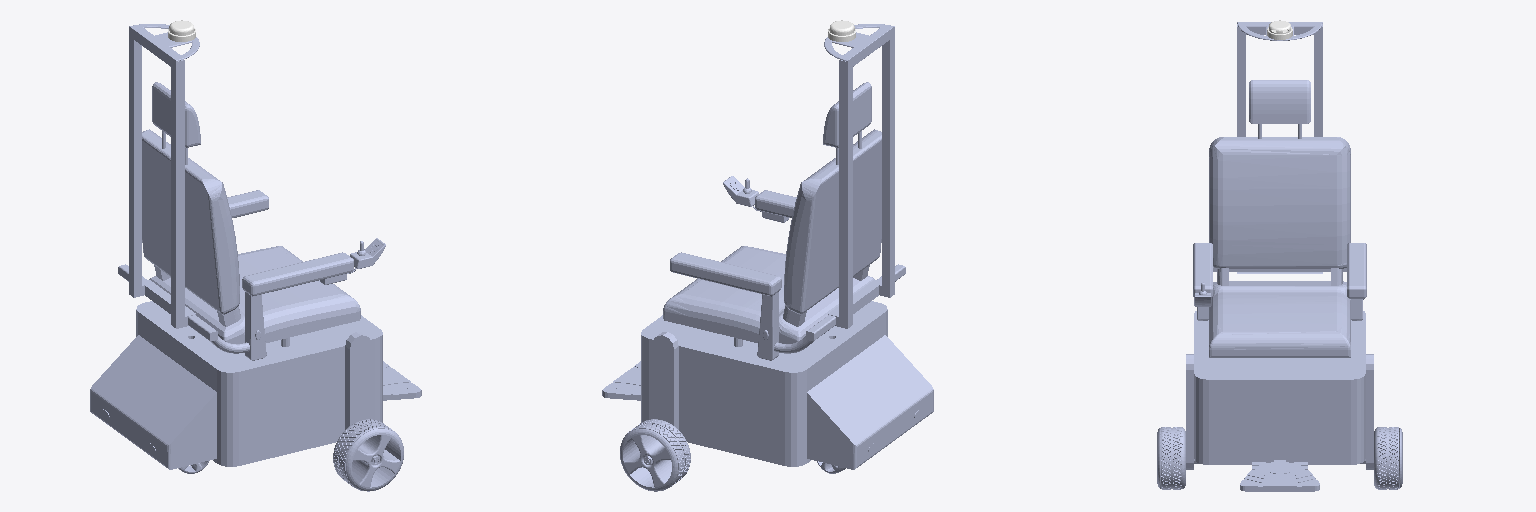
robot.urdf — wheelchair_robot4:
<?xml version="1.0" encoding="utf-8"?>
<!-- This URDF was automatically created by SolidWorks to URDF Exporter! Originally created by [author] ([email redacted]) 
     Commit Version: 1.6.0-1-g15f4949  Build Version: 1.6.7594.29634
     For more information, please see http://wiki.ros.org/sw_urdf_exporter -->
<robot
  name="wheelchair_robot4">


  <material name="color1">
      <color rgba="0.996078431372549 0.7764705882352941 0.08235294117647059 1.0" />
  </material>

  <material name="color2">
      <color rgba="0.9803921568627451 0.16470588235294117 0.3333333333333333 1.0" />
  </material>

  <material name="color3">
      <color rgba="0.10588235294117647 0.1411764705882353 0.19215686274509805 1.0" />
  </material>


  <link
    name="base_link">
    <inertial>
      <origin
        xyz="-0.116070367389248 -0.000387460963306548 0.280524449845589"
        rpy="0 0 0" />
      <mass
        value="185.015068554867" />
      <inertia
        ixx="8.51989303392125"
        ixy="0.0245373071358486"
        ixz="0.693279134331001"
        iyy="10.1532644889236"
        iyz="8.82279589272413E-05"
        izz="11.9909793927951" />
    </inertial>
    <visual>
      <origin
        xyz="0 0 0"
        rpy="0 0 0" />
      <geometry>
        <mesh
          filename="package://wheelchair_robot4/meshes/base_link.STL" />
      </geometry>
      <material
        name="color1">
        <color
          rgba="0.792156862745098 0.819607843137255 0.933333333333333 1" />
      </material>
    </visual>
    <collision>
      <origin
        xyz="0 0 0"
        rpy="0 0 0" />
      <geometry>
        <mesh
          filename="package://wheelchair_robot4/meshes/base_link.STL" />
      </geometry>
    </collision>
  </link>
  <link
    name="wheel_fl_link">
    <inertial>
      <origin
        xyz="-1.10061709746034E-10 -0.00337662340413741 5.90574734948834E-10"
        rpy="0 0 0" />
      <mass
        value="2.2843668748185" />
      <inertia
        ixx="0.00965638406952181"
        ixy="-5.03513589196726E-13"
        ixz="-4.98427158296694E-09"
        iyy="0.0146542138938539"
        iyz="-1.93237868171639E-11"
        izz="0.00965636514719424" />
    </inertial>
    <visual>
      <origin
        xyz="0 0 0"
        rpy="0 0 0" />
      <geometry>
        <mesh
          filename="package://wheelchair_robot4/meshes/wheel_fl_link.STL" />
      </geometry>
      <material
        name="color3">
        <color
          rgba="0.792156862745098 0.819607843137255 0.933333333333333 1" />
      </material>
    </visual>
    <collision>
      <origin
        xyz="0 0 0"
        rpy="0 0 0" />
      <geometry>
        <mesh
          filename="package://wheelchair_robot4/meshes/wheel_fl_link.STL" />
      </geometry>
    </collision>
  </link>
  <joint
    name="wheel_fl_joint"
    type="continuous">
    <origin
      xyz="0.130073236181598 0.38 -0.03"
      rpy="0 0 0" />
    <parent
      link="base_link" />
    <child
      link="wheel_fl_link" />
    <axis
      xyz="0 -1 0" />
  </joint>
  <link
    name="wheel_fr_link">
    <inertial>
      <origin
        xyz="3.98364174980514E-10 0.00337662340409128 -4.3375466413087E-10"
        rpy="0 0 0" />
      <mass
        value="2.28436687482522" />
      <inertia
        ixx="0.00965637368510289"
        ixy="1.45442365575457E-11"
        ixz="1.06538252153203E-08"
        iyy="0.0146542138938664"
        iyz="-1.23759944913488E-11"
        izz="0.00965637553164089" />
    </inertial>
    <visual>
      <origin
        xyz="0 0 0"
        rpy="0 0 0" />
      <geometry>
        <mesh
          filename="package://wheelchair_robot4/meshes/wheel_fr_link.STL" />
      </geometry>
      <material
        name="color3">
        <color
          rgba="0.792156862745098 0.819607843137255 0.933333333333333 1" />
      </material>
    </visual>
    <collision>
      <origin
        xyz="0 0 0"
        rpy="0 0 0" />
      <geometry>
        <mesh
          filename="package://wheelchair_robot4/meshes/wheel_fr_link.STL" />
      </geometry>
    </collision>
  </link>
  <joint
    name="wheel_fr_joint"
    type="continuous">
    <origin
      xyz="0.130073236181598 -0.38 -0.03"
      rpy="0 0 0" />
    <parent
      link="base_link" />
    <child
      link="wheel_fr_link" />
    <axis
      xyz="0 1 0" />
  </joint>
  <link
    name="connector_link">
    <inertial>
      <origin
        xyz="3.79357822932747E-10 2.90199943435004E-10 -0.0261782154699899"
        rpy="0 0 0" />
      <mass
        value="0.0667157840715326" />
      <inertia
        ixx="0.000125873890125083"
        ixy="-7.2427836650951E-06"
        ixz="1.21292858455585E-12"
        iyy="9.30667213425711E-05"
        iyz="9.31015843073259E-13"
        izz="5.60950990322276E-05" />
    </inertial>
    <visual>
      <origin
        xyz="0 0 0"
        rpy="0 0 0" />
      <geometry>
        <mesh
          filename="package://wheelchair_robot4/meshes/connector_link.STL" />
      </geometry>
      <material
        name="">
        <color
          rgba="0.792156862745098 0.819607843137255 0.933333333333333 1" />
      </material>
    </visual>
    <collision>
      <origin
        xyz="0 0 0"
        rpy="0 0 0" />
      <geometry>
        <mesh
          filename="package://wheelchair_robot4/meshes/connector_link.STL" />
      </geometry>
    </collision>
  </link>
  <joint
    name="connector_joint"
    type="continuous">
    <origin
      xyz="-0.299926763818402 0 -0.00399999999999999"
      rpy="0 0 0" />
    <parent
      link="base_link" />
    <child
      link="connector_link" />
    <axis
      xyz="0 0 1" />
  </joint>
  <link
    name="wheel_assist_link">
    <inertial>
      <origin
        xyz="1.26123131077849E-07 4.99185305185699E-07 2.01808293964767E-08"
        rpy="0 0 0" />
      <mass
        value="0.33441726853021" />
      <inertia
        ixx="0.000399871451682161"
        ixy="5.27453105588021E-05"
        ixz="-4.40619053011618E-10"
        iyy="0.000638788721281427"
        iyz="7.73083711774996E-11"
        izz="0.000388744319718542" />
    </inertial>
    <visual>
      <origin
        xyz="0 0 0"
        rpy="0 0 0" />
      <geometry>
        <mesh
          filename="package://wheelchair_robot4/meshes/wheel_assist_link.STL" />
      </geometry>
      <material
        name="color3">
        <color
          rgba="0.792156862745098 0.819607843137255 0.933333333333333 1" />
      </material>
    </visual>
    <collision>
      <origin
        xyz="0 0 0"
        rpy="0 0 0" />
      <geometry>
        <mesh
          filename="package://wheelchair_robot4/meshes/wheel_assist_link.STL" />
      </geometry>
    </collision>
  </link>
  <joint
    name="wheel_assist_joint"
    type="continuous">
    <origin
      xyz="0 0 -0.0760000000000001"
      rpy="0 0 0" />
    <parent
      link="connector_link" />
    <child
      link="wheel_assist_link" />
    <axis
      xyz="-0.206402232912239 -0.978467229011193 0" />
  </joint>
  <link
    name="lidar_Link">
    <inertial>
      <origin
        xyz="-0.000772669085365274 -6.79960722208799E-10 7.02576890805329E-05"
        rpy="0 0 0" />
      <mass
        value="0.219753304190073" />
      <inertia
        ixx="0.000127637800597162"
        ixy="1.27214955903226E-11"
        ixz="1.91437962823175E-06"
        iyy="0.000125796747355346"
        iyz="4.28256656148048E-12"
        izz="0.000197877878347455" />
    </inertial>
    <visual>
      <origin
        xyz="0 0 0"
        rpy="0 0 0" />
      <geometry>
        <mesh
          filename="package://wheelchair_robot4/meshes/lidar_Link.STL" />
      </geometry>
      <material
        name="color2">
        <color
          rgba="1 1 1 1" />
      </material>
    </visual>
    <collision>
      <origin
        xyz="0 0 0"
        rpy="0 0 0" />
      <geometry>
        <mesh
          filename="package://wheelchair_robot4/meshes/lidar_Link.STL" />
      </geometry>
    </collision>
  </link>
  <joint
    name="lidar_joint"
    type="fixed">
    <origin
      xyz="-0.334934840795657 0 1.411"
      rpy="0 0 0" />
    <parent
      link="base_link" />
    <child
      link="lidar_Link" />
    <axis
      xyz="0 0 0" />
  </joint>

<gazebo reference="base_link"> 
     <material>Gazebo/Yellow </material>
    </gazebo>
 <gazebo reference="wheel_fl_link"> 
     <material>Gazebo/Orange </material>
    </gazebo>
 <gazebo reference="wheel_fr_link"> 
     <material>Gazebo/Orange </material>
    </gazebo>
 <gazebo reference="wheel_assist_link"> 
     <material>Gazebo/Blue </material>
    </gazebo>
  <gazebo reference="lidar_Link"> 
     <material>Gazebo/Red </material>
    </gazebo>

</robot>

--- Render facts (derived) ---
The picture shows the robot from 3 angles, left to right: view 1: azimuth 30°, elevation 25°; view 2: azimuth 150°, elevation 25°; view 3: azimuth 270°, elevation 25°; orthographic projection.
Model wheelchair_robot4 with 6 links and 5 joints (4 continuous, 1 fixed), rooted at base_link, posed all joints at 0.
Visible links, largest first — view 1: base_link, wheel_fr_link; view 2: base_link, wheel_fl_link; view 3: base_link, wheel_fl_link, wheel_fr_link.
Boxes of the visible links, x1,y1,x2,y2 form: base_link: (90, 24, 421, 469); wheel_fr_link: (333, 419, 403, 491); base_link: (602, 24, 933, 469); wheel_fl_link: (620, 419, 690, 491); base_link: (1186, 22, 1373, 491); wheel_fl_link: (1360, 427, 1402, 489); wheel_fr_link: (1157, 427, 1199, 489).
Size in the robot's own frame: 1 by 0.86 by 1.57 metres.
6 mesh visuals loaded from 6 distinct referenced files (6 binary STL).